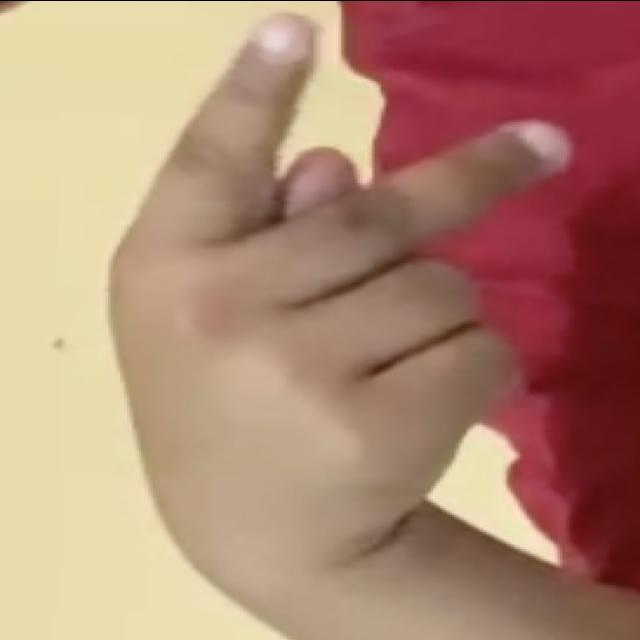K: (75, 4, 587, 614)
